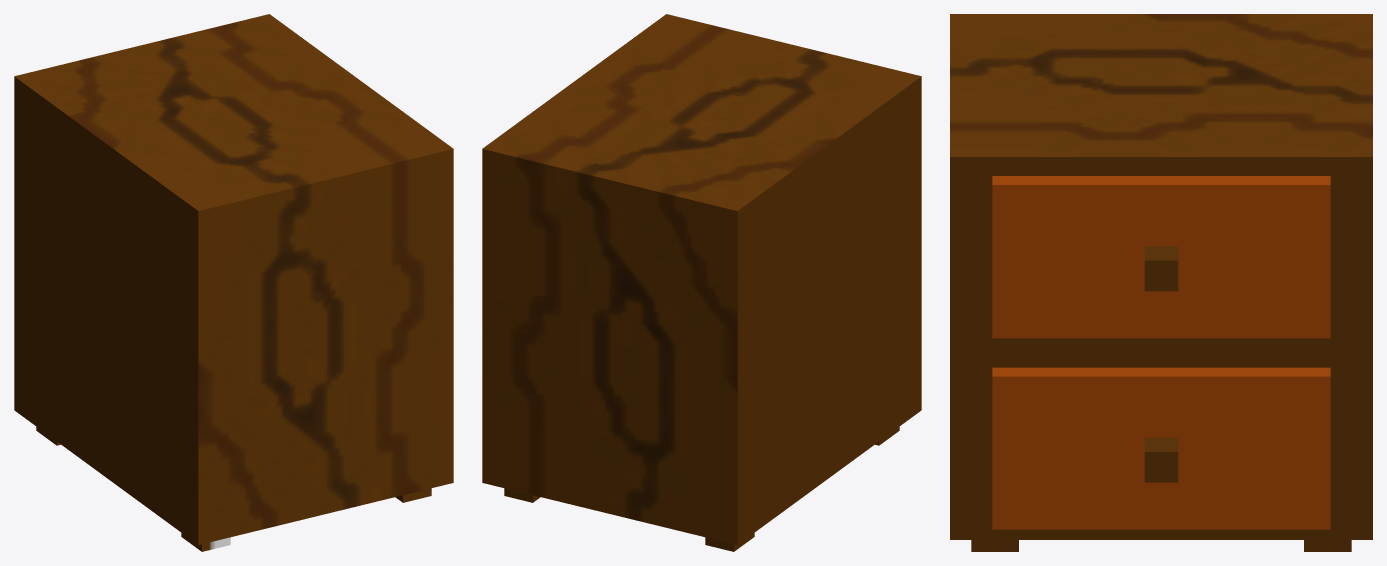
File: Cupboard.fbx
3 renders of one model, left to right at view 1: azimuth 30°, elevation 25°; view 2: azimuth 150°, elevation 25°; view 3: azimuth 270°, elevation 25°, orthographic. The views are drawn at different scales.
Parts seen in each view (by area): view 1: Cube; view 2: Cube; view 3: Cube.
Boxes of the visible parts, box(x1,y1,x2,y2) form: Cube: box(14, 14, 453, 551); Cube: box(482, 14, 921, 551); Cube: box(950, 14, 1372, 551).
Size of the model in its own units: 55.8 by 63 by 60.
Materials: 3 (1 with a texture image).
